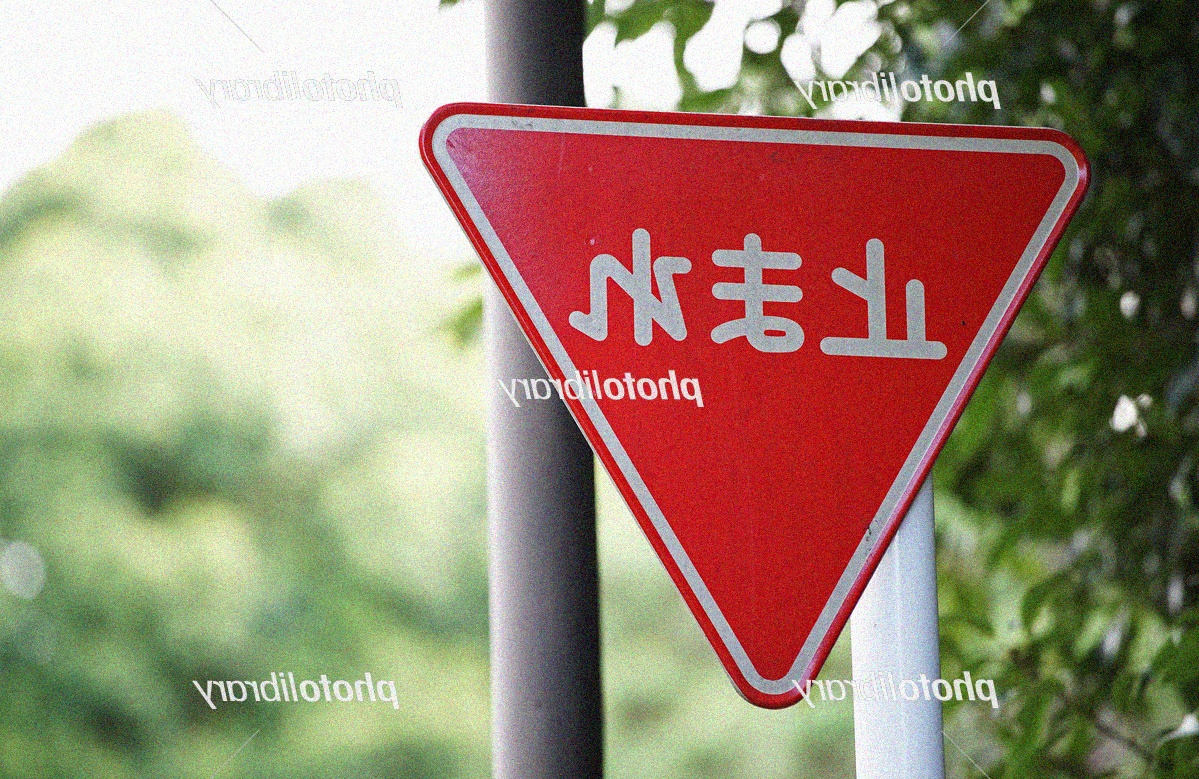Regulatory_sign_triangle: (411, 78, 1124, 689)
